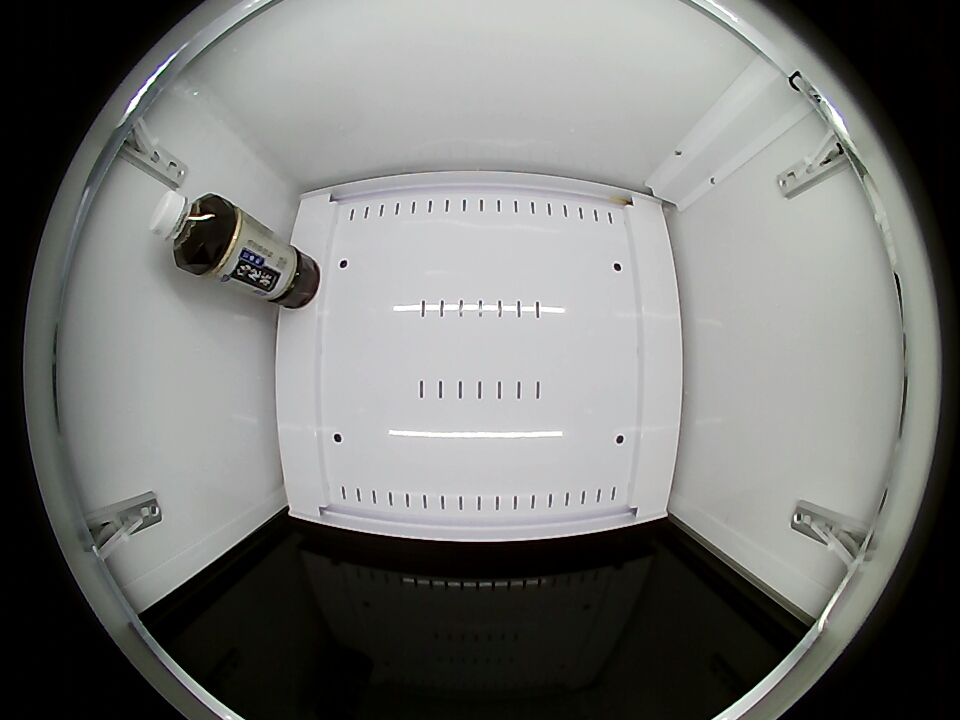wulongcha: (148, 190, 228, 270)
